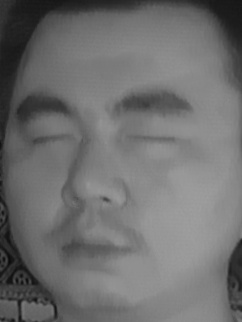blink: (128, 121, 181, 157), (24, 121, 75, 156)
mouth: (51, 216, 143, 271)
